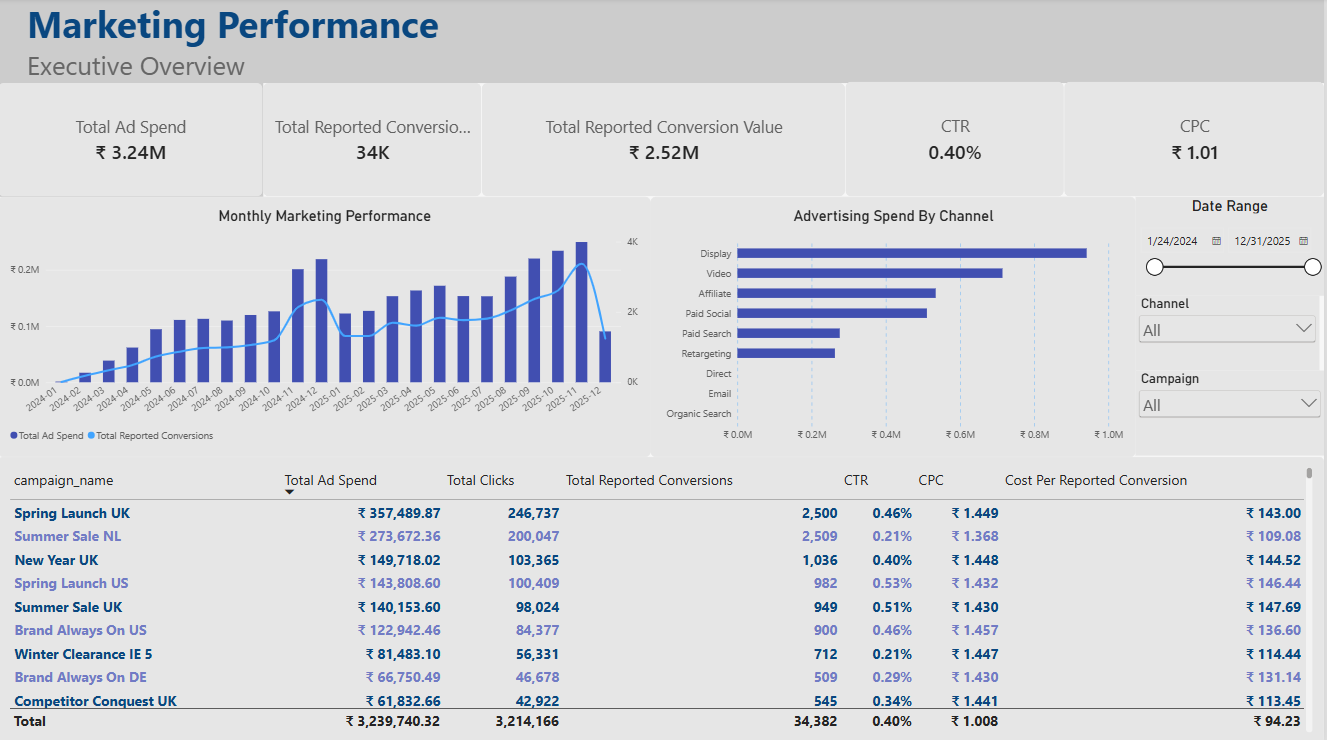

What the dashboard file says about the page in this screenshot:
{"tool":"powerbi","page":{"name":"Executive Overview","canvas":[1920,1080],"ordinal":0},"visuals":[{"type":"textbox","box":[0,0,1920.1,123.1],"z":0},{"type":"slicer","title":"Date Range","fields":{"Values":["DimDate.Date"]},"box":[1646.8,287.7,273.3,143],"z":1000},{"type":"slicer","fields":{"Values":["public dim_channel.channel_name"]},"box":[1646.8,430.7,266,108.6],"z":2000},{"type":"slicer","fields":{"Values":["public dim_campaign.campaign_name"]},"box":[1646.8,539.3,273.3,123.1],"z":3000},{"type":"cardVisual","fields":{"Data":["public fact_daily_performance.Total Ad Spend"]},"box":[0,123.1,383.6,164.7],"z":4000},{"type":"cardVisual","fields":{"Data":["public fact_daily_performance.CPC"]},"box":[1543.6,121.2,376.4,166.5],"z":5000},{"type":"cardVisual","fields":{"Data":["public fact_daily_performance.CTR"]},"box":[1227,121.2,316.7,166.5],"z":6000},{"type":"cardVisual","fields":{"Data":["public fact_daily_performance.Total Reported Conversion Value"]},"box":[700.3,123.1,526.6,164.7],"z":7000},{"type":"cardVisual","fields":{"Data":["public fact_daily_performance.Total Reported Conversions"]},"box":[383.6,123.1,316.7,164.7],"z":8000},{"type":"lineClusteredColumnComboChart","title":"Monthly Marketing Performance","fields":{"Category":["DimDate.Year-Month"],"Y":["public fact_daily_performance.Total Ad Spend"],"Y2":["public fact_daily_performance.Total Reported Conversions"]},"box":[0,287.7,944.6,376.4],"z":9000},{"type":"barChart","title":"Advertising Spend By Channel","fields":{"Category":["public dim_channel.channel_name"],"Y":["public fact_daily_performance.Total Ad Spend"]},"box":[944.6,287.7,702.1,376.4],"z":10000},{"type":"tableEx","fields":{"Values":["public dim_campaign.campaign_name","public fact_daily_performance.Total Ad Spend","public fact_daily_performance.Total Clicks","public fact_daily_performance.Total Reported Conversions","public fact_daily_performance.CTR","public fact_daily_performance.CPC","public fact_daily_performance.Cost Per Reported Conversion"]},"box":[0,664.1,1920.1,416.2],"z":11000}]}

Visuals, with their boxes in screenshot pixels (x1, y1, x2, y2), scaled from the page's 1920x1080 canvas onto the 1327x740 screenshot:
textbox: {"x1": 0, "y1": 0, "x2": 1326, "y2": 84}
"Date Range" slicer: {"x1": 1138, "y1": 197, "x2": 1326, "y2": 295}
slicer - public dim_channel.channel_name: {"x1": 1138, "y1": 295, "x2": 1322, "y2": 370}
slicer - public dim_campaign.campaign_name: {"x1": 1138, "y1": 370, "x2": 1326, "y2": 454}
cardVisual - public fact_daily_performance.Total Ad Spend: {"x1": 0, "y1": 84, "x2": 265, "y2": 197}
cardVisual - public fact_daily_performance.CPC: {"x1": 1067, "y1": 83, "x2": 1326, "y2": 197}
cardVisual - public fact_daily_performance.CTR: {"x1": 848, "y1": 83, "x2": 1067, "y2": 197}
cardVisual - public fact_daily_performance.Total Reported Conversion Value: {"x1": 484, "y1": 84, "x2": 848, "y2": 197}
cardVisual - public fact_daily_performance.Total Reported Conversions: {"x1": 265, "y1": 84, "x2": 484, "y2": 197}
"Monthly Marketing Performance" lineClusteredColumnComboChart: {"x1": 0, "y1": 197, "x2": 653, "y2": 455}
"Advertising Spend By Channel" barChart: {"x1": 653, "y1": 197, "x2": 1138, "y2": 455}
tableEx - public dim_campaign.campaign_name x public fact_daily_performance.Total Ad Spend: {"x1": 0, "y1": 455, "x2": 1326, "y2": 739}
